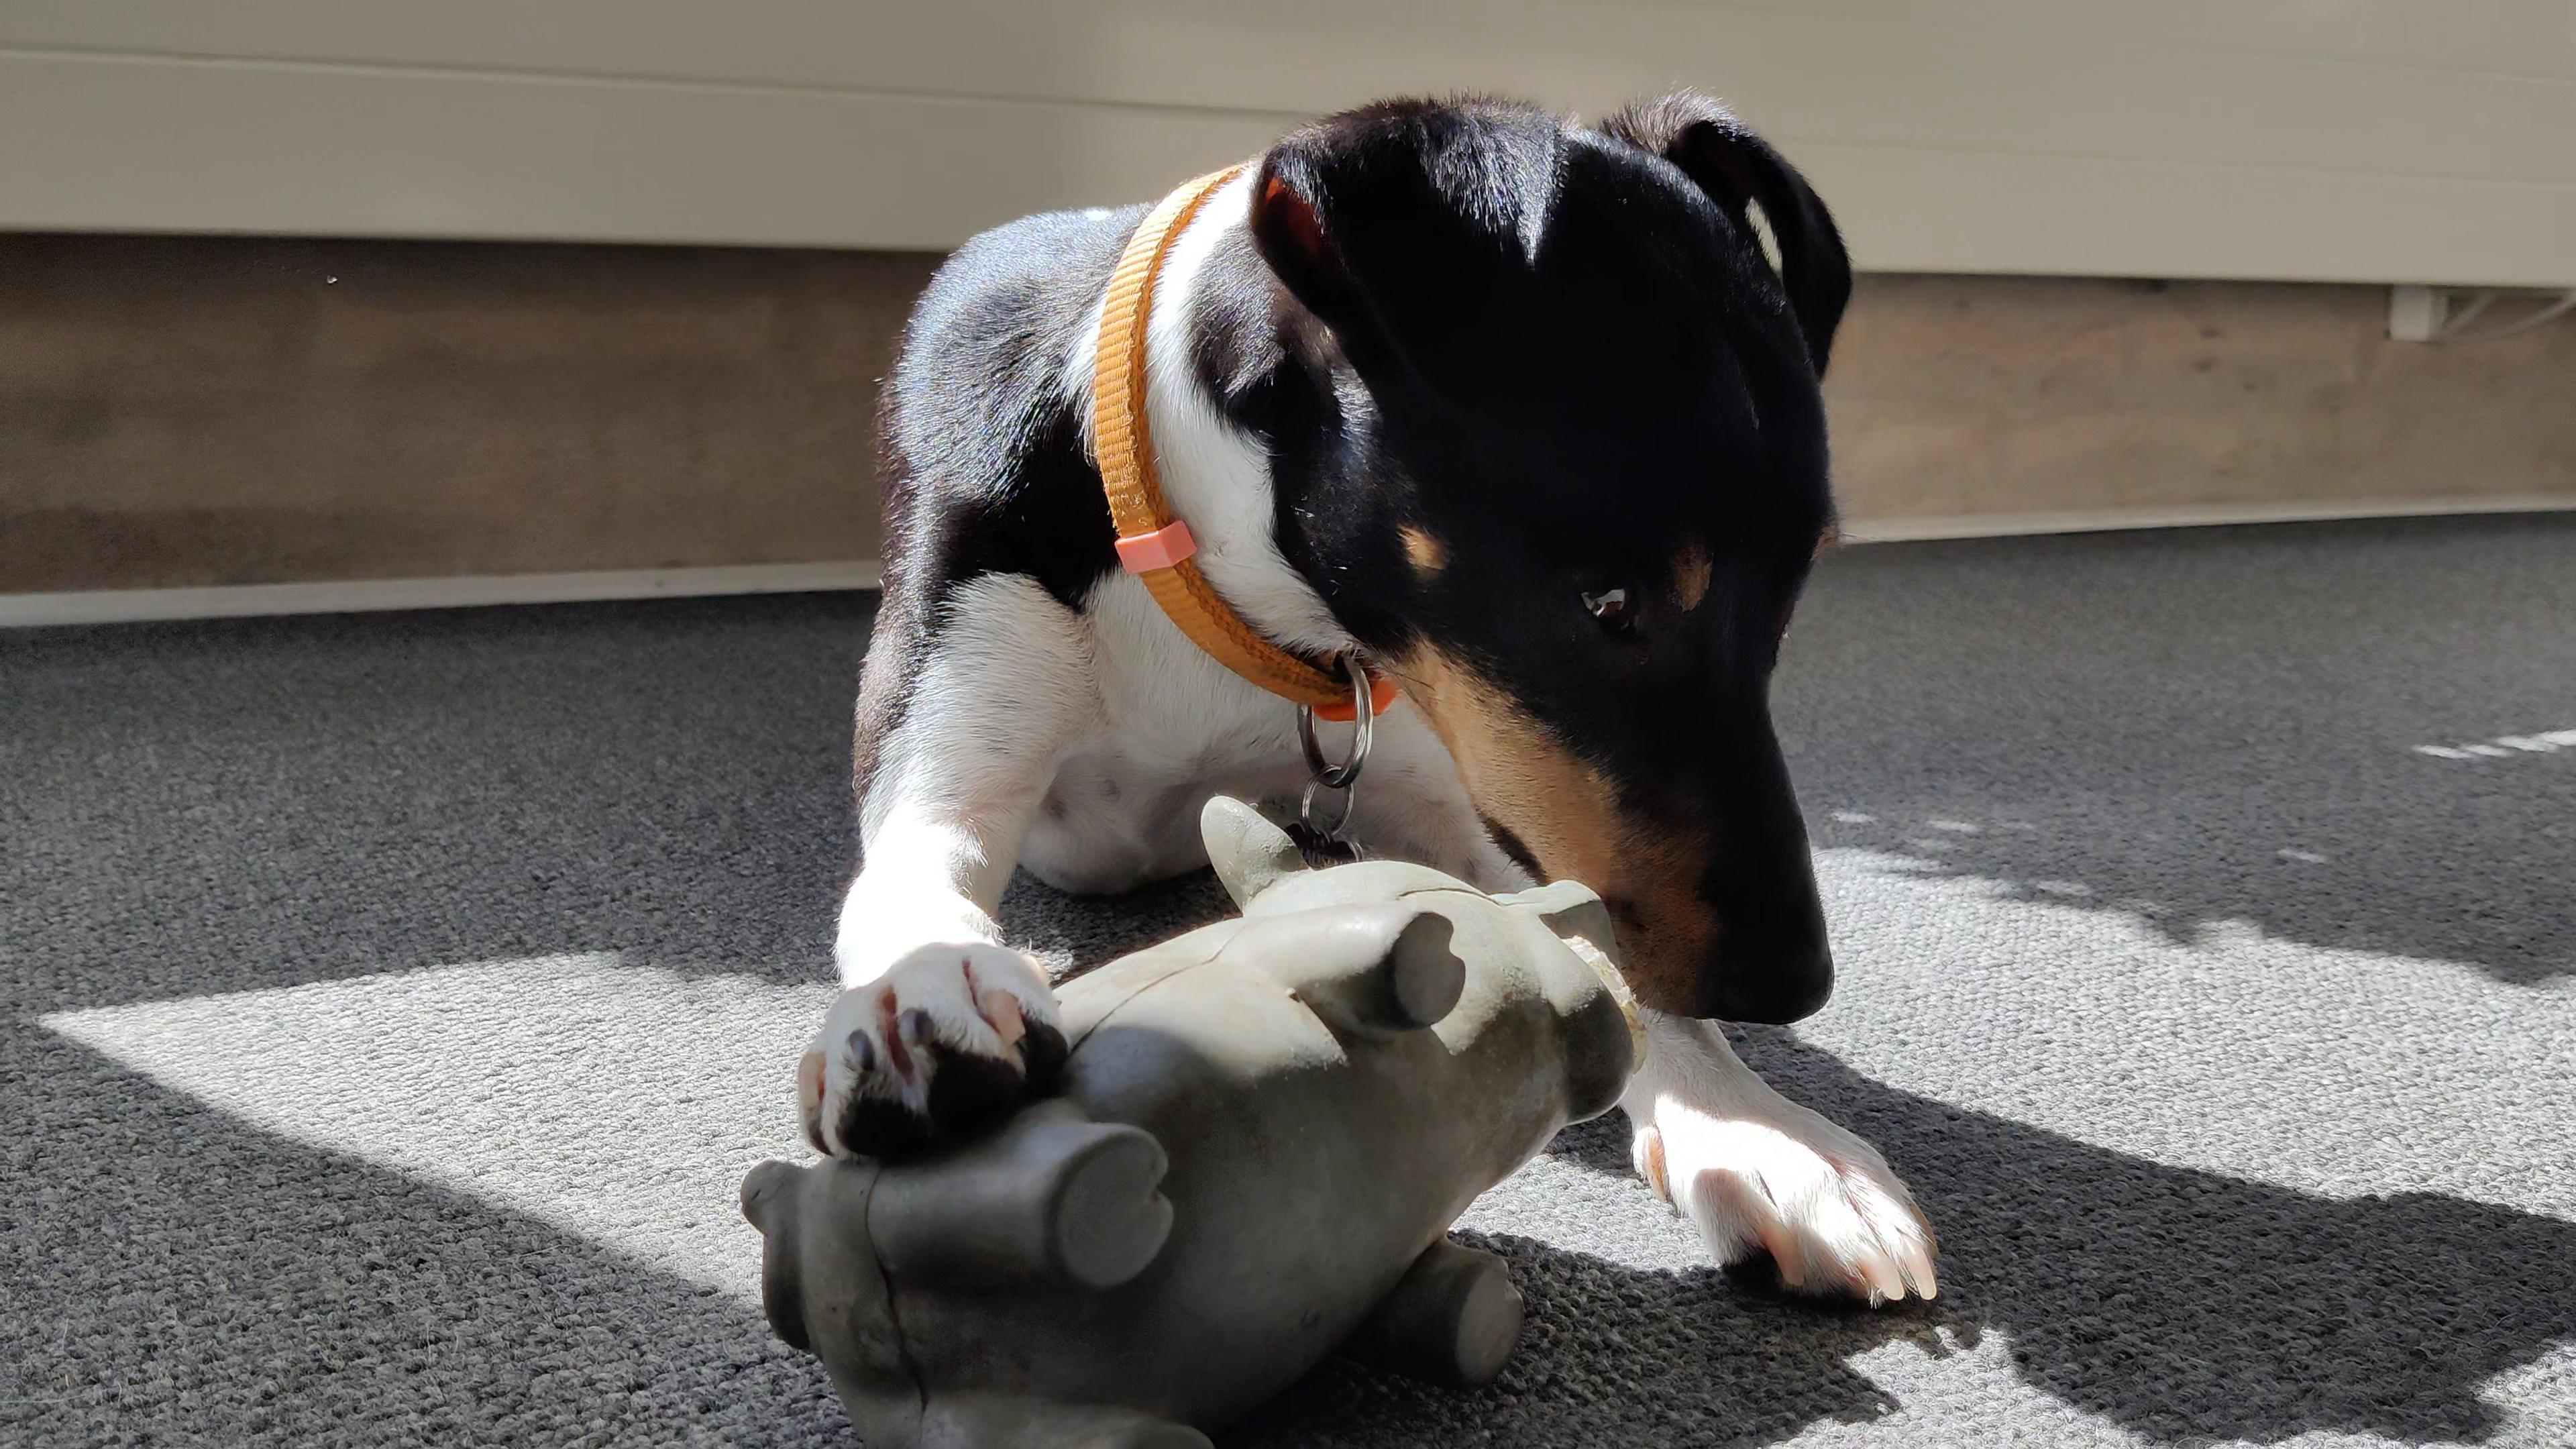Dog: (786, 73, 1957, 1323)
